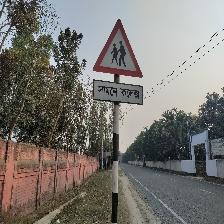College-in-front: (88, 32, 180, 145), (104, 26, 105, 46)
